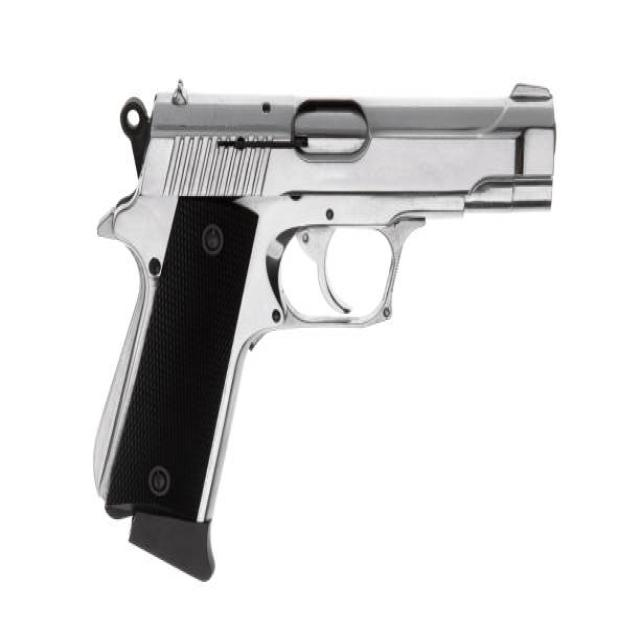pistol: (82, 79, 573, 584)
